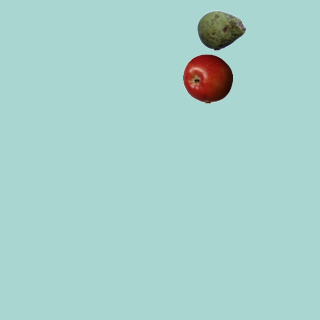Apple Braeburn: (182, 53, 232, 103)
Pear Stone: (196, 5, 246, 55)
